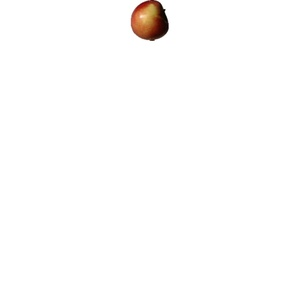maçã braeburn: (129, 2, 171, 42)
